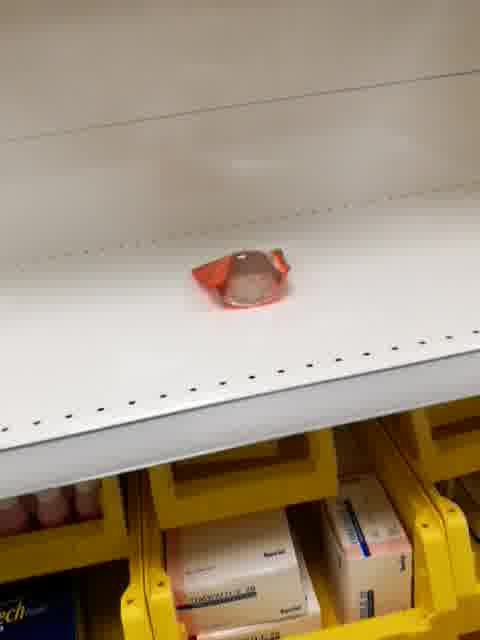whitechia: (188, 247, 291, 311)
